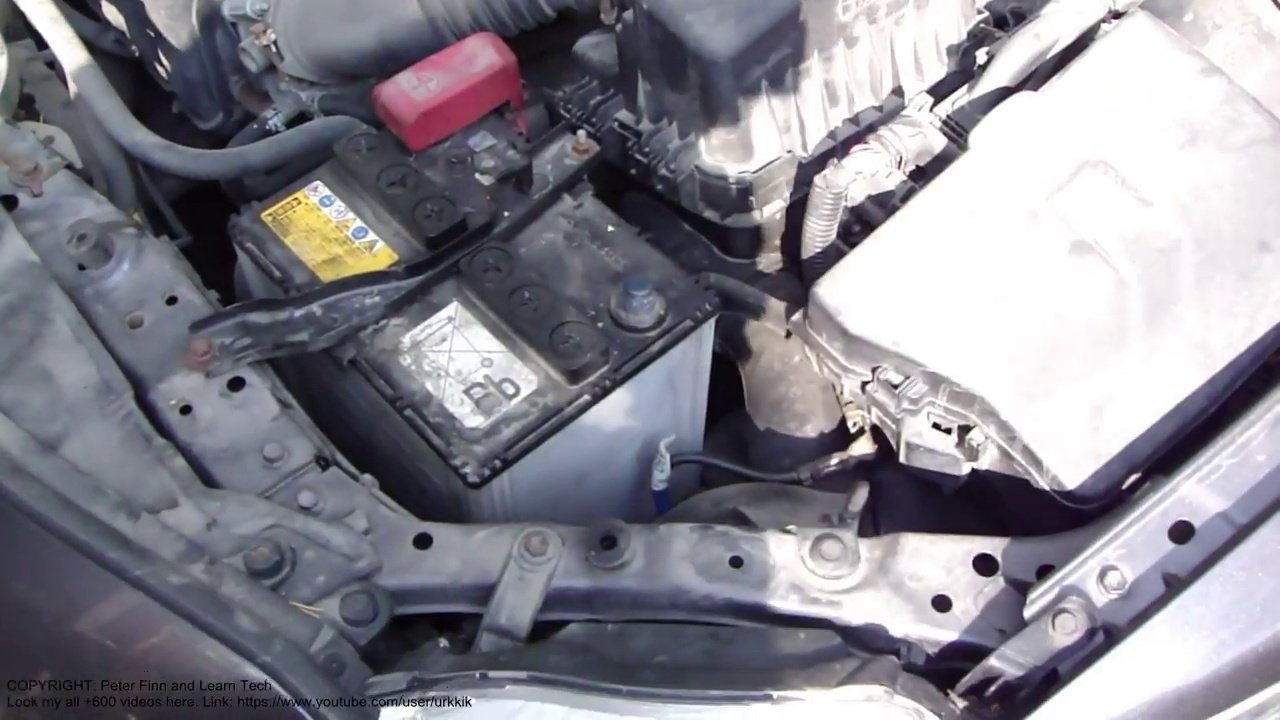battery: (224, 50, 712, 480)
neg_disconnected: (592, 251, 674, 350)
pos_connected: (369, 30, 553, 168)
